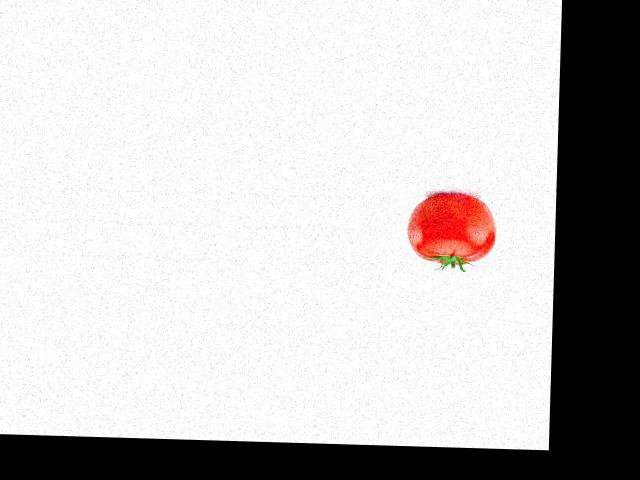tomato: (406, 193, 497, 265)
